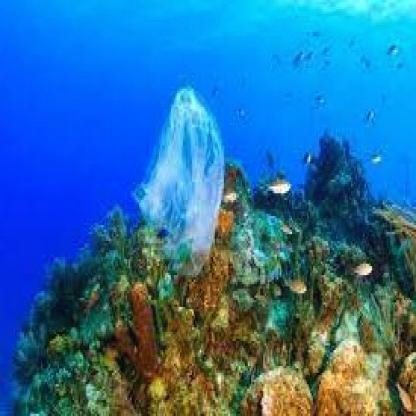pbag: (132, 84, 226, 277)
